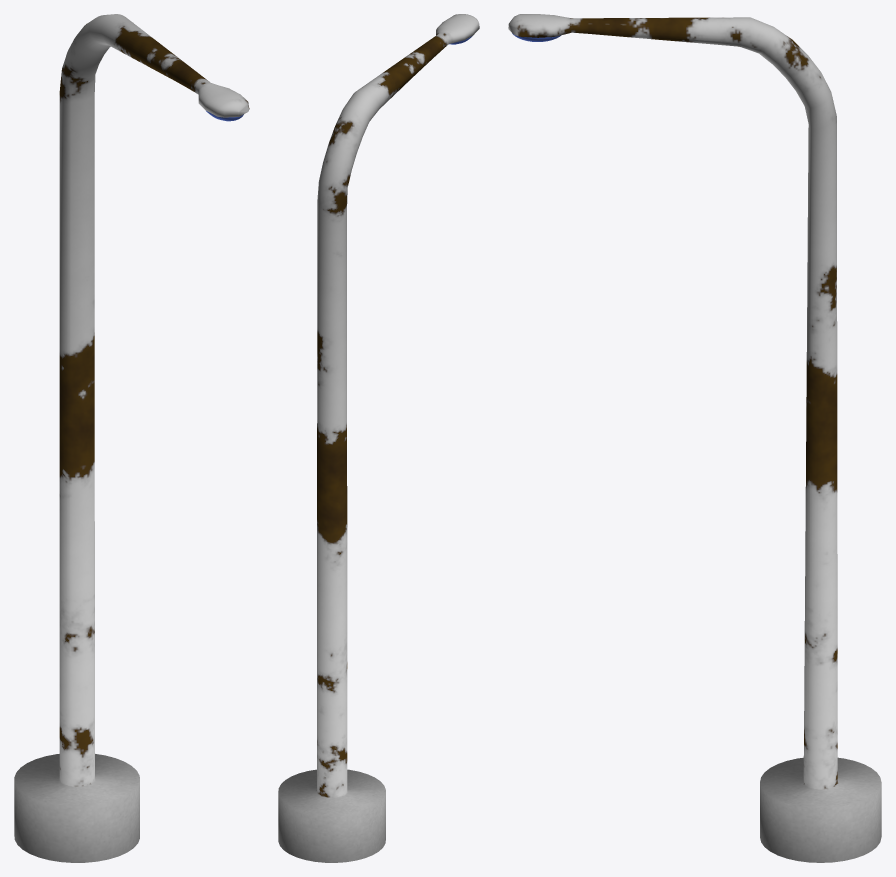
The model's file is StreetLight.glb.
3 renders of one model, left to right at view 1: azimuth 30°, elevation 25°; view 2: azimuth 150°, elevation 25°; view 3: azimuth 270°, elevation 25°, orthographic. The views are drawn at different scales.
Parts seen in each view (by area): view 1: Streetlight; view 2: Streetlight; view 3: Streetlight.
Boxes of the visible parts, x1=… form: Streetlight: x1=14, y1=14, x2=249, y2=862; Streetlight: x1=278, y1=14, x2=479, y2=862; Streetlight: x1=508, y1=14, x2=881, y2=862.
Size of the model in its own units: 0.4572 by 3.4 by 1.4.
Materials: 3 (3 with a texture image).
